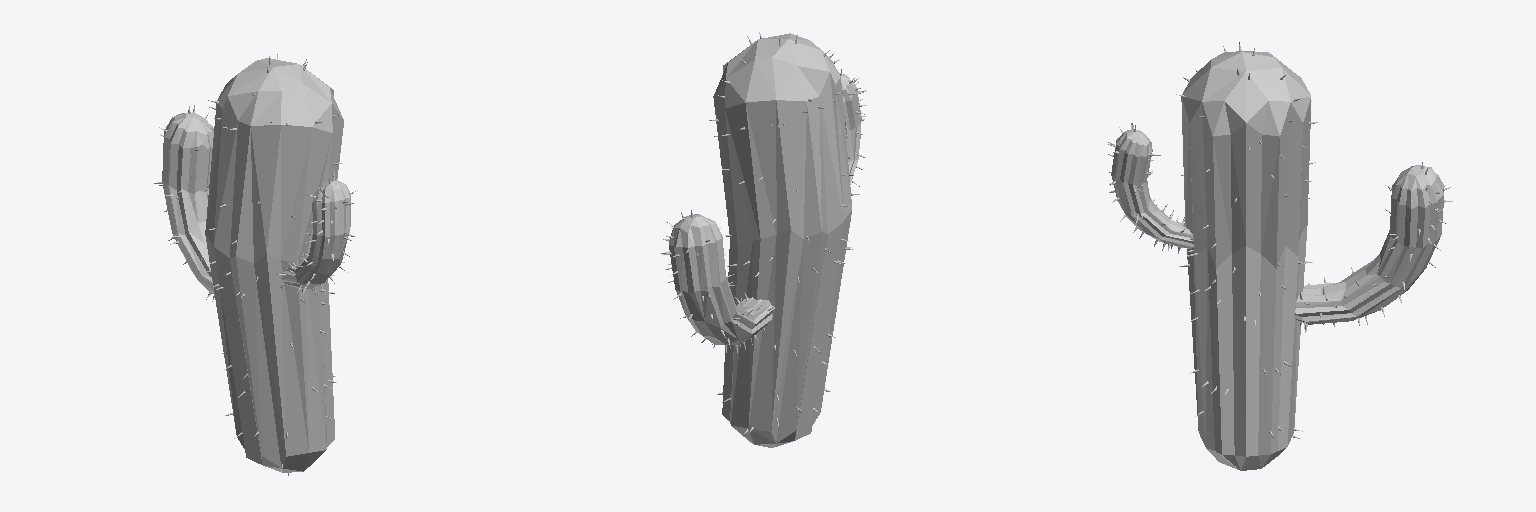
The model's file is Cactus01.obj.
3 views of the same model, side by side, from view 1: azimuth 30°, elevation 25°; view 2: azimuth 150°, elevation 25°; view 3: azimuth 270°, elevation 25° (orthographic).
Parts seen in each view (by area): view 1: Circle, x_Circle.001, x.001_Circle.002, Cone; view 2: Circle, x_Circle.001, Cone, x.001_Circle.002; view 3: Circle, x_Circle.001, x.001_Circle.002, Cone.
Boxes of the visible parts, box(x1,y1,x2,y2) form: Circle: box(205, 58, 343, 472); x_Circle.001: box(162, 112, 214, 294); x.001_Circle.002: box(281, 180, 350, 288); Cone: box(154, 54, 357, 475); Circle: box(713, 33, 851, 447); x_Circle.001: box(669, 214, 774, 344); Cone: box(660, 32, 866, 434); x.001_Circle.002: box(839, 73, 861, 184); Circle: box(1181, 51, 1310, 470); x_Circle.001: box(1295, 165, 1444, 324); x.001_Circle.002: box(1111, 130, 1193, 248); Cone: box(1108, 42, 1452, 438).
Size of the model in its own units: 3.16 by 9.6 by 7.2.